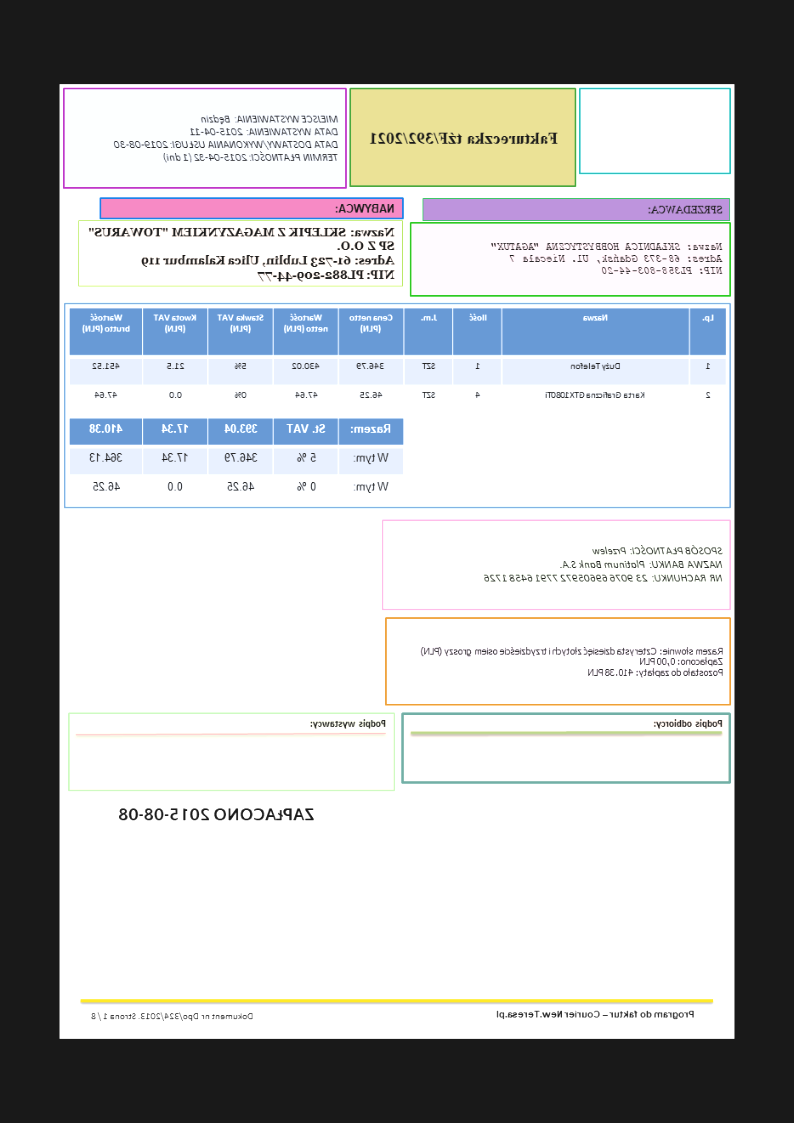Table: (69, 306, 727, 415), (69, 417, 405, 504)
TextBox: (87, 225, 397, 282), (112, 113, 340, 164), (419, 644, 724, 678), (482, 543, 725, 584), (490, 239, 724, 276), (369, 129, 559, 146), (118, 806, 315, 822), (495, 1007, 697, 1022), (89, 1009, 255, 1023), (645, 202, 725, 217), (309, 717, 388, 731), (652, 717, 725, 730), (334, 201, 396, 215)
